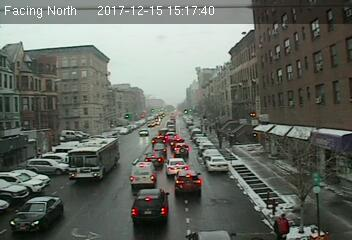bus: (65, 137, 118, 183), (9, 195, 62, 233), (129, 189, 168, 223), (131, 163, 155, 185), (205, 155, 229, 171), (166, 157, 187, 174), (143, 152, 164, 168), (173, 144, 189, 157), (153, 143, 167, 154), (152, 136, 165, 144), (165, 132, 175, 139)
car: (174, 171, 202, 195)
